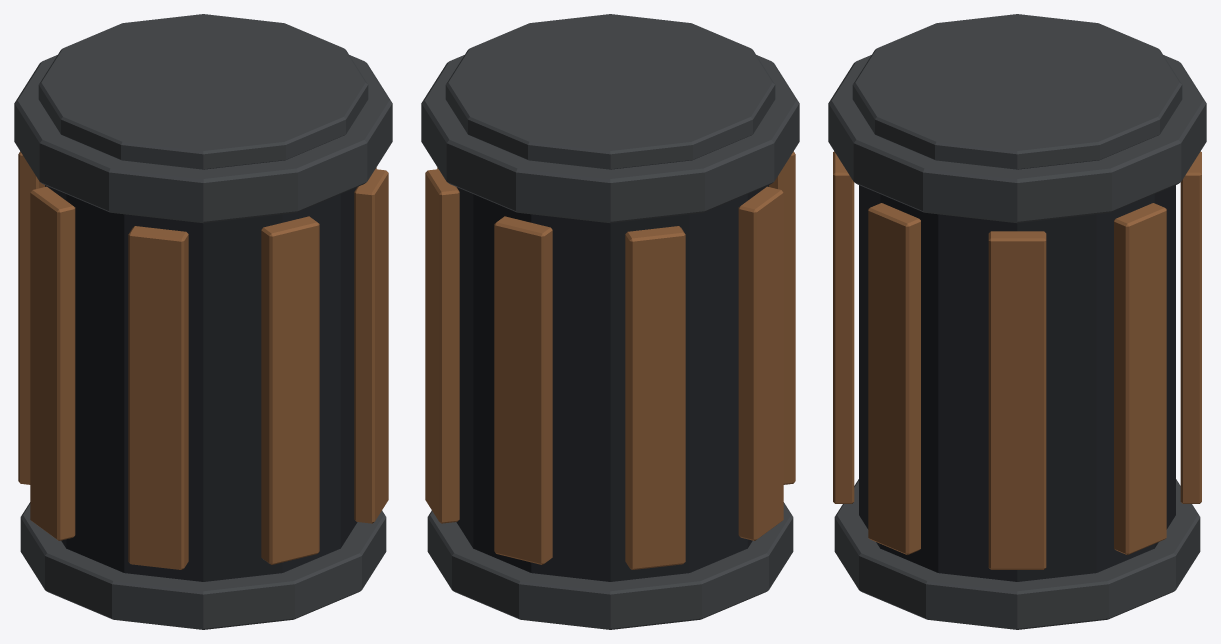
Rendered from higgsfield-trash-bin-poc.glb.
3 views of the same model, side by side, from view 1: azimuth 30°, elevation 25°; view 2: azimuth 150°, elevation 25°; view 3: azimuth 270°, elevation 25° (orthographic).
Visible parts, largest first — view 1: InnerCan, TopCap, TopRing, WoodSlat_06, WoodSlat_07, BaseRing, WoodSlat_05, WoodSlat_08, WoodSlat_04; view 2: InnerCan, TopCap, TopRing, WoodSlat_04, WoodSlat_03, BaseRing, WoodSlat_05, WoodSlat_02, WoodSlat_06; view 3: InnerCan, TopCap, TopRing, WoodSlat_01, BaseRing, WoodSlat_02, WoodSlat_08, WoodSlat_03, WoodSlat_07.
Part boxes in pixels (bbox=[...]): InnerCan: bbox=[45, 185, 357, 581]; TopCap: bbox=[38, 14, 368, 169]; TopRing: bbox=[14, 55, 392, 223]; WoodSlat_06: bbox=[128, 226, 188, 569]; WoodSlat_07: bbox=[261, 216, 319, 564]; BaseRing: bbox=[20, 502, 386, 629]; WoodSlat_05: bbox=[30, 186, 75, 540]; WoodSlat_08: bbox=[354, 169, 388, 523]; WoodSlat_04: bbox=[18, 151, 44, 484]; InnerCan: bbox=[456, 185, 768, 581]; TopCap: bbox=[445, 14, 775, 169]; TopRing: bbox=[421, 55, 799, 223]; WoodSlat_04: bbox=[625, 226, 685, 569]; WoodSlat_03: bbox=[494, 216, 552, 564]; BaseRing: bbox=[427, 502, 793, 629]; WoodSlat_05: bbox=[738, 186, 783, 540]; WoodSlat_02: bbox=[425, 169, 459, 523]; WoodSlat_06: bbox=[769, 151, 795, 484]; InnerCan: bbox=[859, 185, 1175, 581]; TopCap: bbox=[852, 14, 1182, 169]; TopRing: bbox=[828, 55, 1206, 223]; WoodSlat_01: bbox=[988, 231, 1046, 569]; BaseRing: bbox=[834, 479, 1200, 629]; WoodSlat_02: bbox=[1114, 203, 1166, 554]; WoodSlat_08: bbox=[868, 203, 920, 554]; WoodSlat_03: bbox=[1180, 151, 1201, 503]; WoodSlat_07: bbox=[833, 151, 854, 503].
Bounding box in the file's own units: 0.62 × 0.8525 × 0.62.
